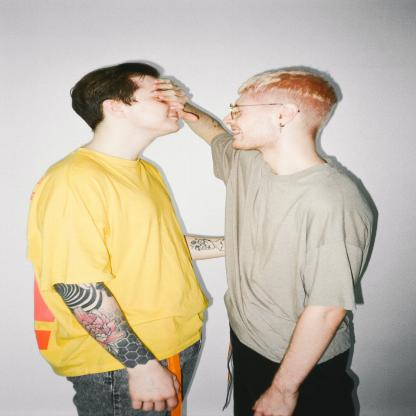Eye: (152, 96, 164, 102), (234, 109, 240, 115)
Mouth: (231, 128, 242, 137), (166, 114, 179, 120)
Nose: (222, 113, 236, 126), (166, 101, 185, 110)
